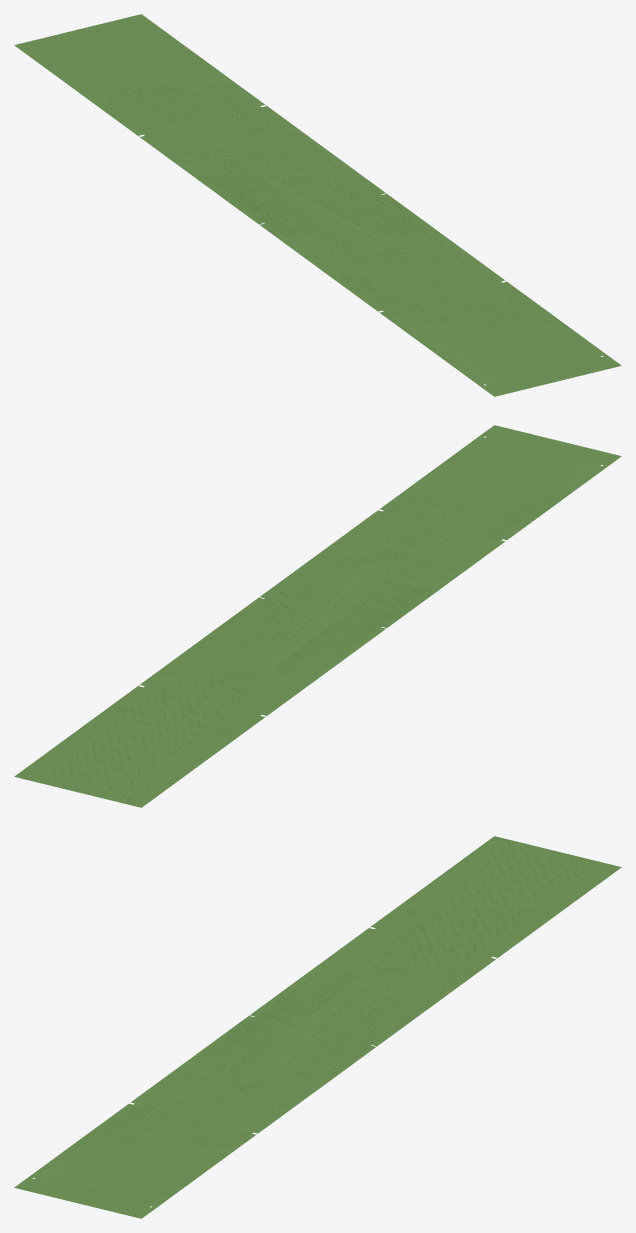
The model's file is Jandi.fbx.
3 views of the same model, one above another, from view 1: azimuth 30°, elevation 25°; view 2: azimuth 150°, elevation 25°; view 3: azimuth 330°, elevation 25° (orthographic).
Parts seen in each view (by area): view 1: ID694; view 2: ID694; view 3: ID694.
Boxes of the visible parts, x1,y1,x2,y2 form: ID694: (14,14,621,396); ID694: (14,425,621,807); ID694: (14,836,621,1218).
Bounding box in the file's own units: 1105 × 2.04e-12 × 7208.
Materials: 1 (1 with a texture image).
